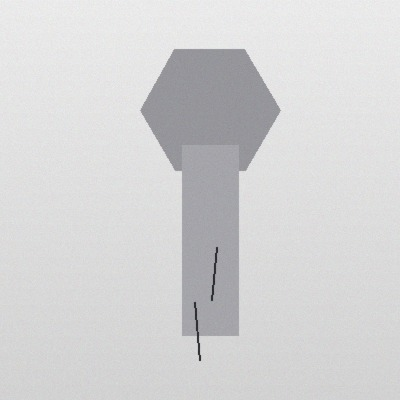scratch: (188, 298, 205, 364), (205, 243, 222, 304)
